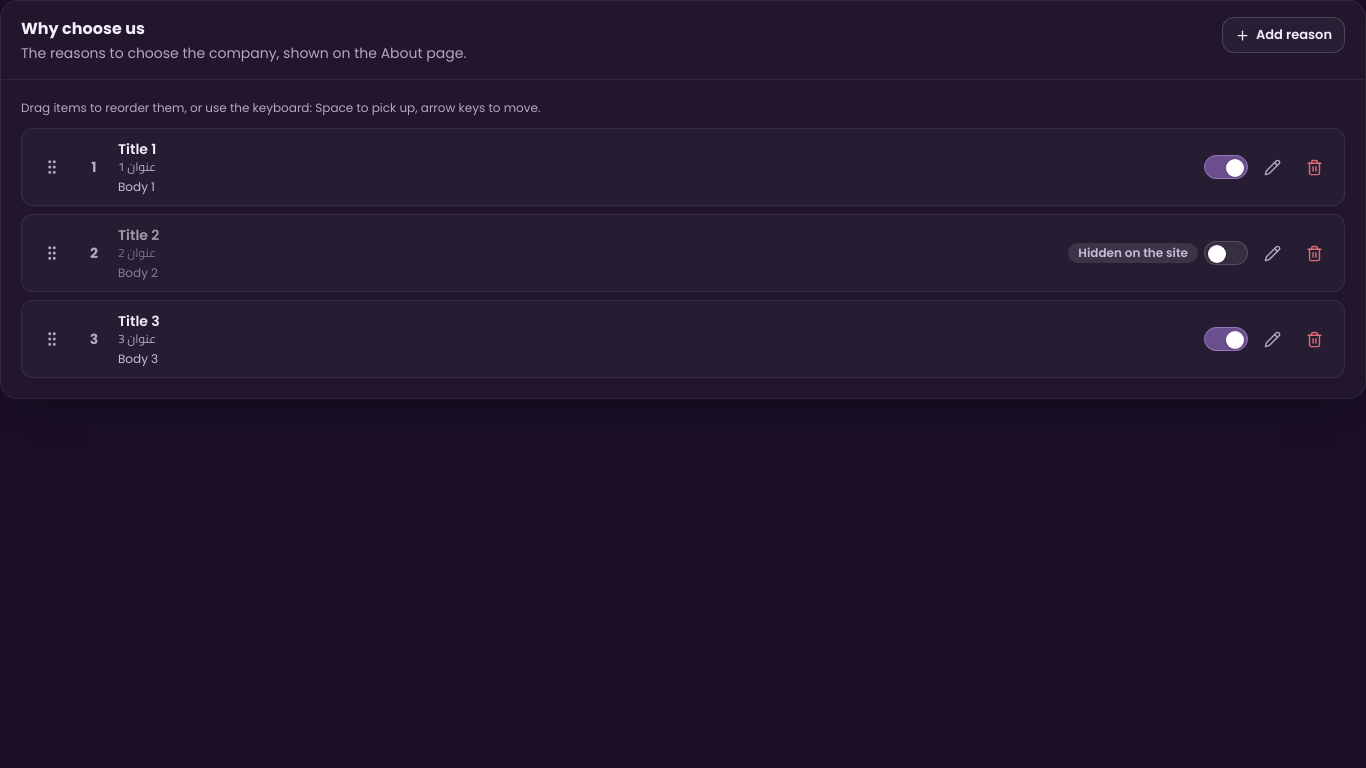
Test: CollectionManager — actions › active toggle › shows an error toast when the update fails
Check: the text "Title 1" is shown, box x1=118 y1=139 x2=156 y2=159
Click the switch named "Active: Title 1" at (1226, 167), box x1=1204 y1=155 x2=1248 y2=179
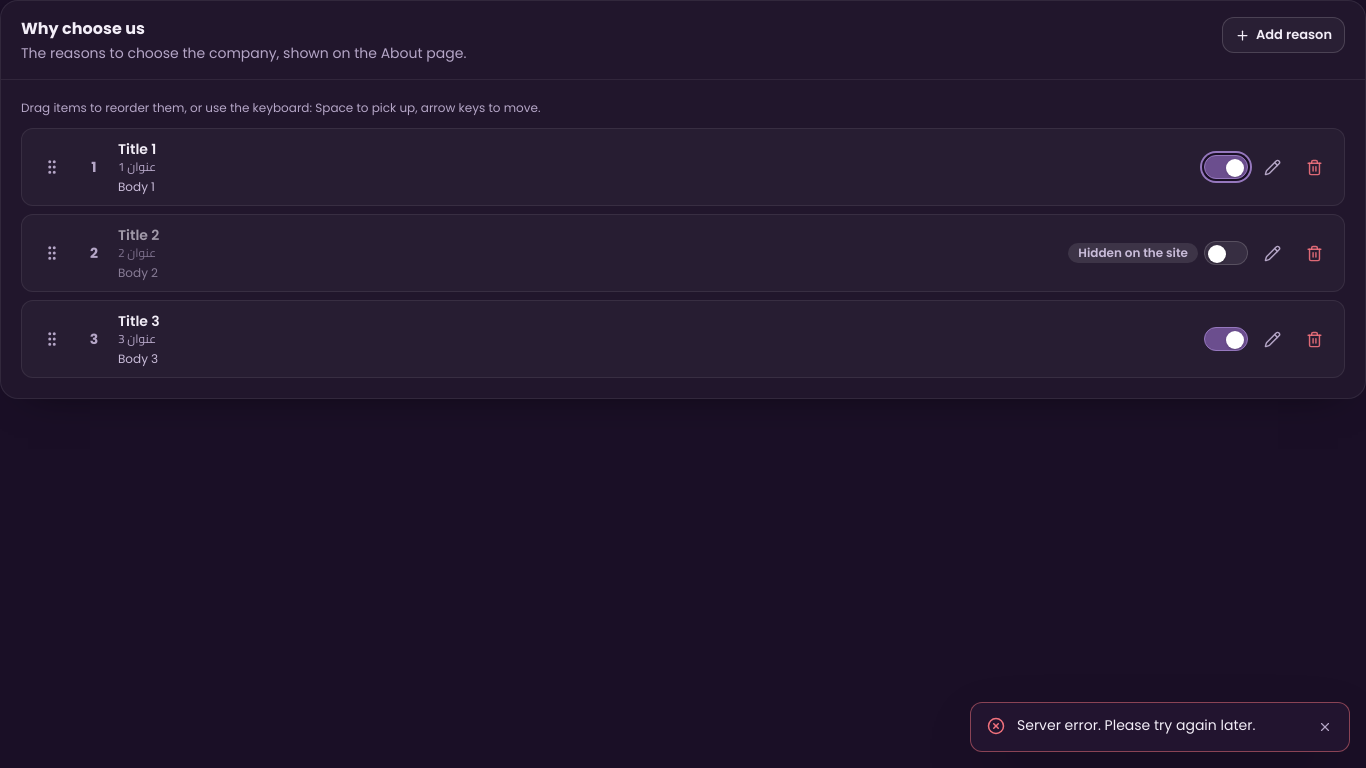
Check: the text "Server error. Please try again later." is shown, box x1=1017 y1=715 x2=1255 y2=735
